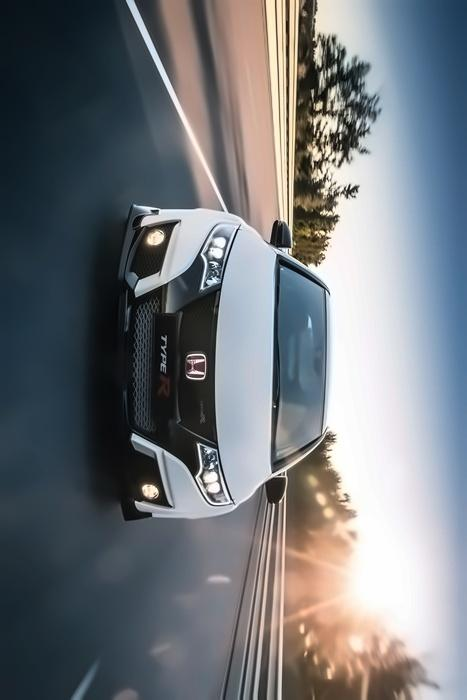Car hood: (214, 213, 280, 505)
Front bumper: (113, 198, 207, 533)
Headlight - -L-: (189, 433, 240, 511)
Headlight - -R-: (193, 213, 242, 298)
Side mirror - -L-: (259, 469, 294, 511)
Side mirror - -R-: (267, 213, 301, 253)
